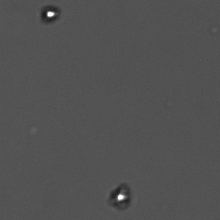Living Cell: (108, 184, 133, 209), (38, 4, 61, 23)
